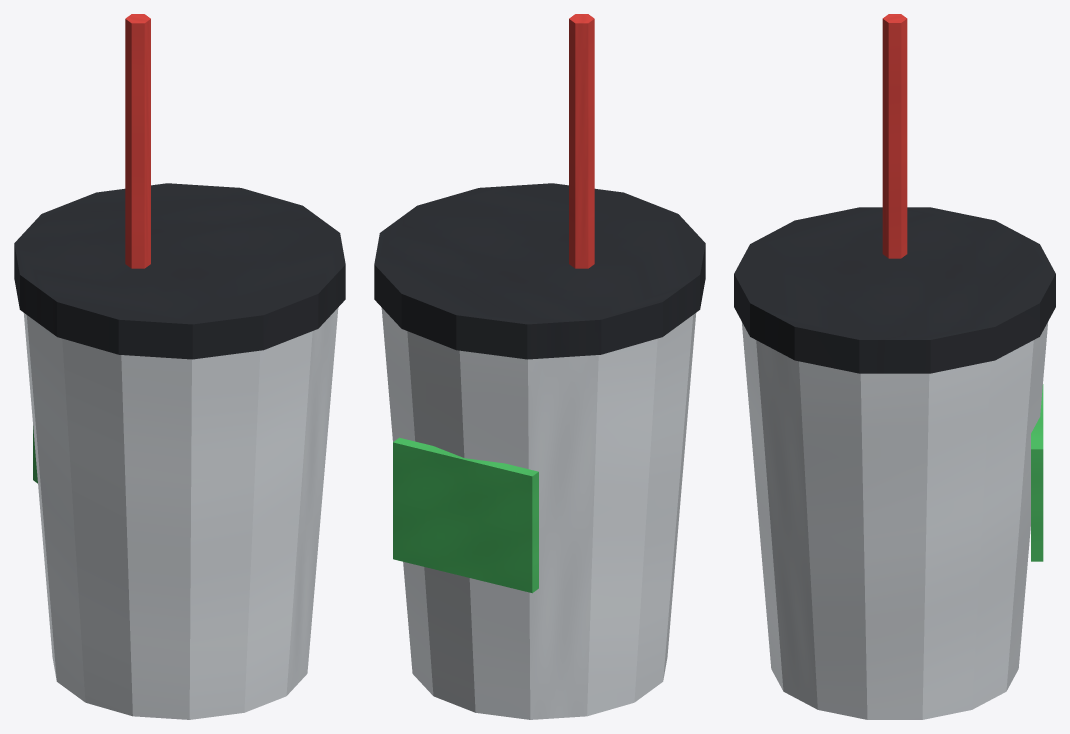
File: T_cup.glb
3 views of the same model, side by side, from view 1: azimuth 30°, elevation 25°; view 2: azimuth 150°, elevation 25°; view 3: azimuth 270°, elevation 25° (orthographic). The views are drawn at different scales.
Parts seen in each view (by area): view 1: Cup; view 2: Cup; view 3: Cup.
Boxes of the visible parts, x1,y1,x2,y2 form: Cup: (14,14,345,719); Cup: (374,14,705,719); Cup: (734,14,1055,719).
Bounding box in the file's own units: 0.1014 × 0.225 × 0.104.
Materials: 1 (1 with a texture image).
